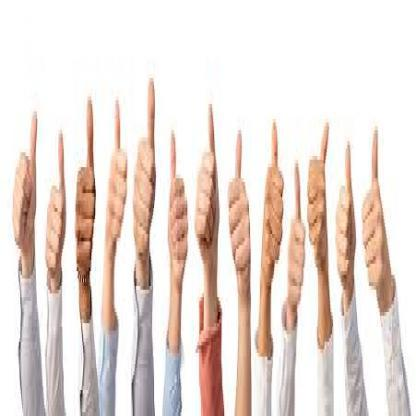thumb_up: (360, 122, 389, 298), (192, 94, 222, 264), (10, 103, 40, 267), (132, 75, 158, 264), (44, 129, 70, 291), (74, 94, 96, 284), (260, 115, 284, 288), (226, 128, 251, 284), (306, 108, 330, 268), (105, 96, 128, 260), (167, 122, 189, 286), (334, 136, 356, 292), (286, 157, 306, 310)
